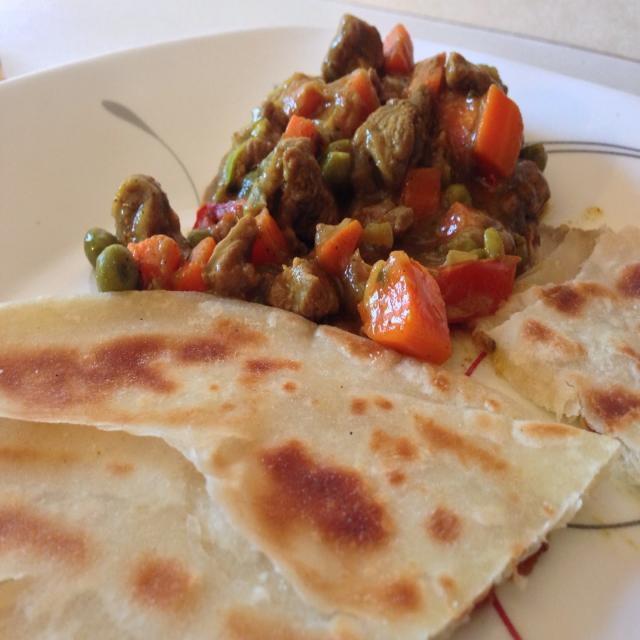roti: (0, 296, 611, 640), (484, 229, 640, 484)
